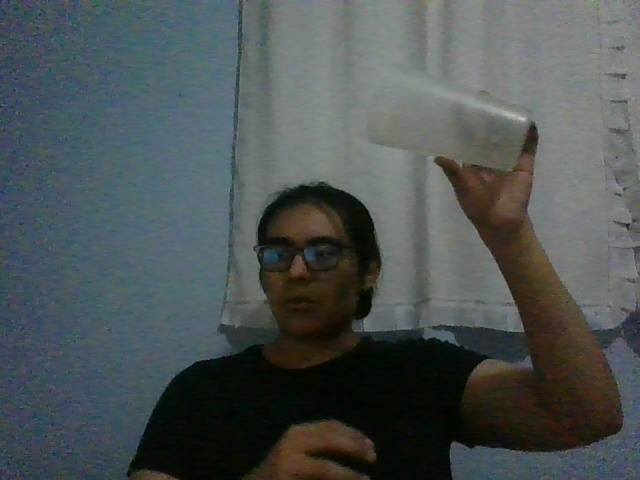vaso: (365, 64, 533, 173)
